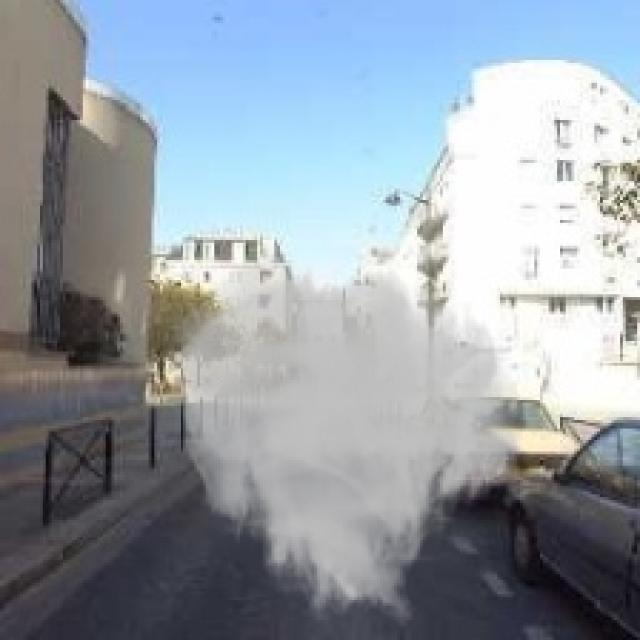smoke: (165, 252, 526, 628)
